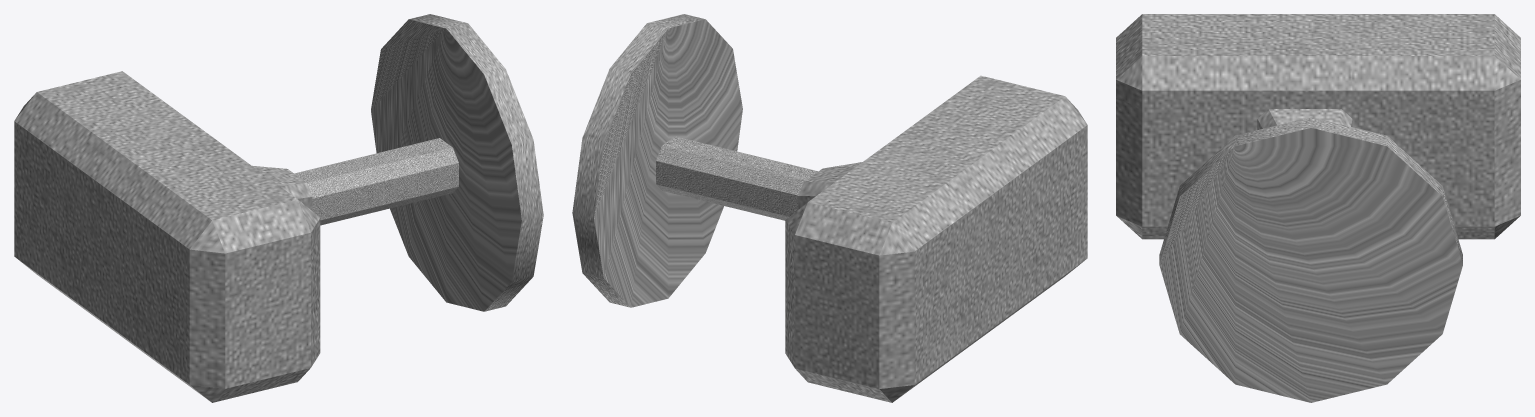
The model's file is Motor_turning.FBX.
3 views of the same model, side by side, from view 1: azimuth 30°, elevation 25°; view 2: azimuth 150°, elevation 25°; view 3: azimuth 270°, elevation 25° (orthographic).
Parts seen in each view (by area): view 1: Motor, Axle; view 2: Motor, Axle; view 3: Axle, Motor.
Part boxes in pixels (x1,y1,x2,y2): Motor: (14,71,320,402); Axle: (294,14,543,311); Motor: (785,75,1087,402); Axle: (572,14,818,307); Axle: (1159,117,1462,402); Motor: (1116,14,1520,239).
Bounding box in the file's own units: 16.36 × 11.81 × 15.75.
